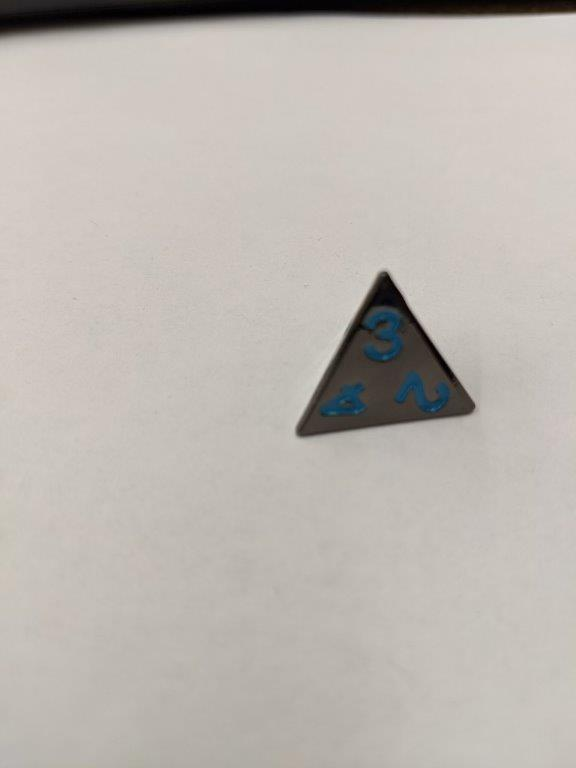d4-3: (292, 267, 477, 442)
